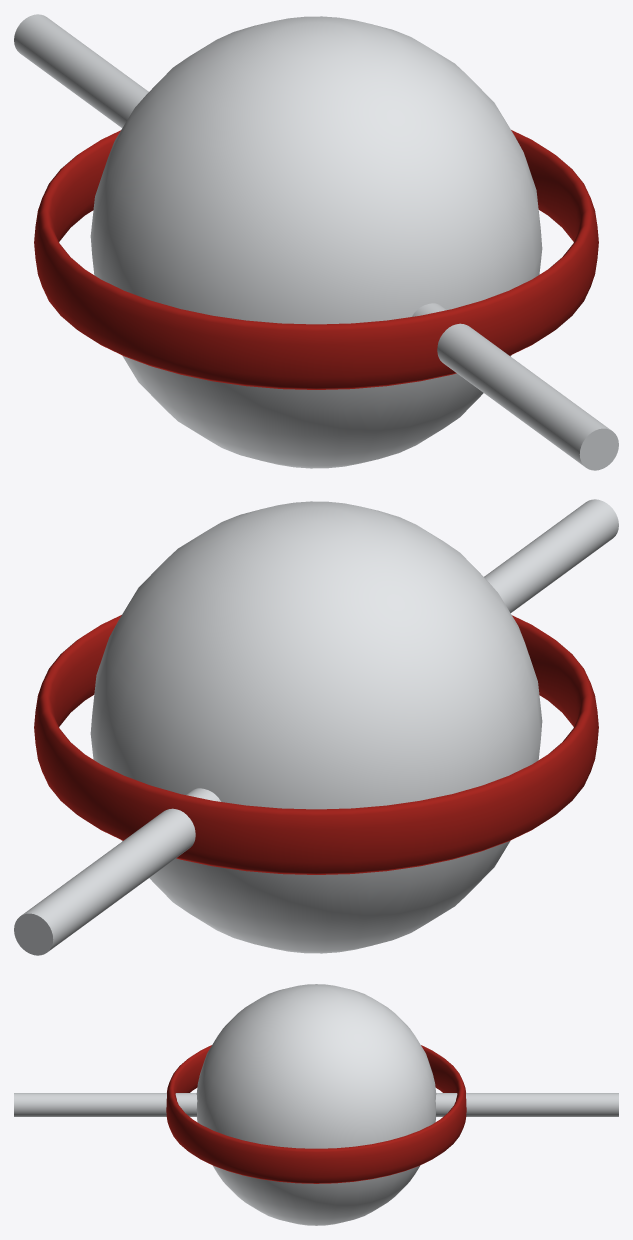
Rendered from testball-optimized.glb.
3 renders of one model, top to bottom at view 1: azimuth 30°, elevation 25°; view 2: azimuth 150°, elevation 25°; view 3: azimuth 270°, elevation 25°, orthographic. The views are drawn at different scales.
Visible parts, largest first — view 1: Sphere, Torus, Cylinder; view 2: Sphere, Torus, Cylinder; view 3: Sphere, Torus, Cylinder.
Boxes of the visible parts, left/top/right/bottom form: Sphere: left=90, top=16, right=542, bottom=468; Torus: left=34, top=130, right=598, bottom=389; Cylinder: left=14, top=14, right=618, bottom=470; Sphere: left=90, top=501, right=542, bottom=953; Torus: left=34, top=615, right=598, bottom=874; Cylinder: left=14, top=499, right=618, bottom=955; Sphere: left=196, top=984, right=436, bottom=1225; Torus: left=166, top=1045, right=466, bottom=1183; Cylinder: left=14, top=1093, right=618, bottom=1116.
Size of the model in its own units: 2.5 by 2 by 5.
